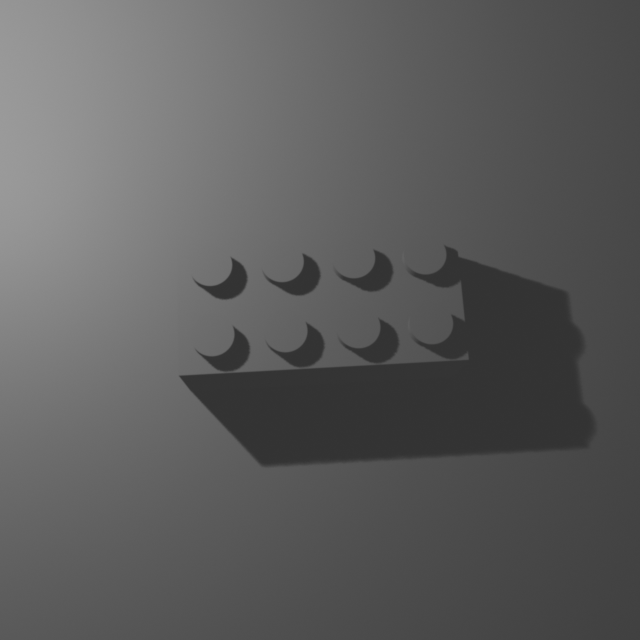lego_2x4: (174, 219, 471, 391)
